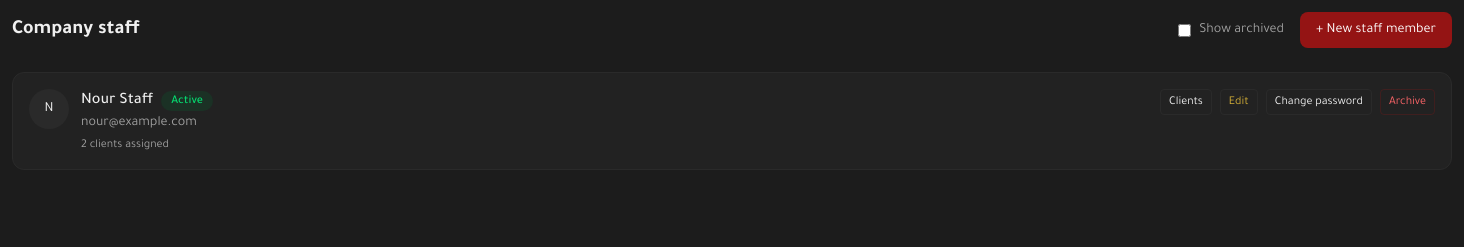
Test case: StaffPage › archives a member after confirmation
The width and height of the screenshot is (1464, 247).
Click the button "Archive" at (1407, 102), box [1380,89,1435,115]
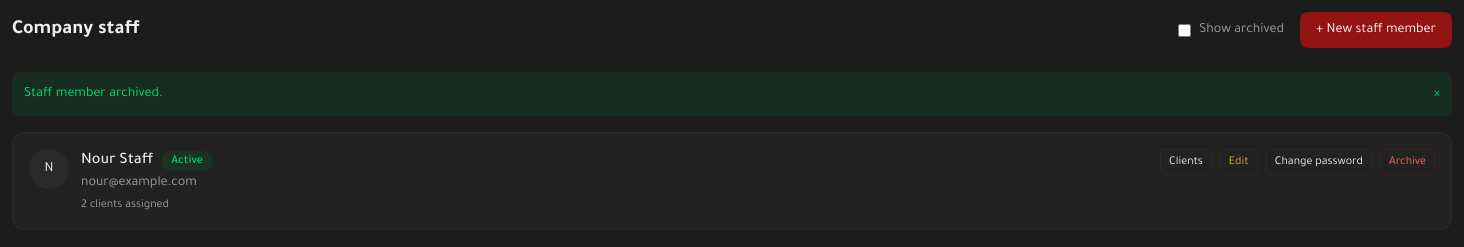
Check: the text "Staff member archived." is shown, box [24,84,163,104]
